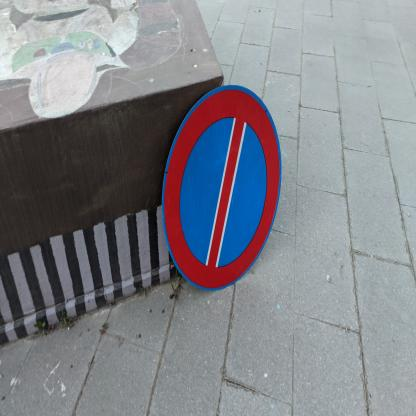No Waiting: (163, 86, 283, 291)
